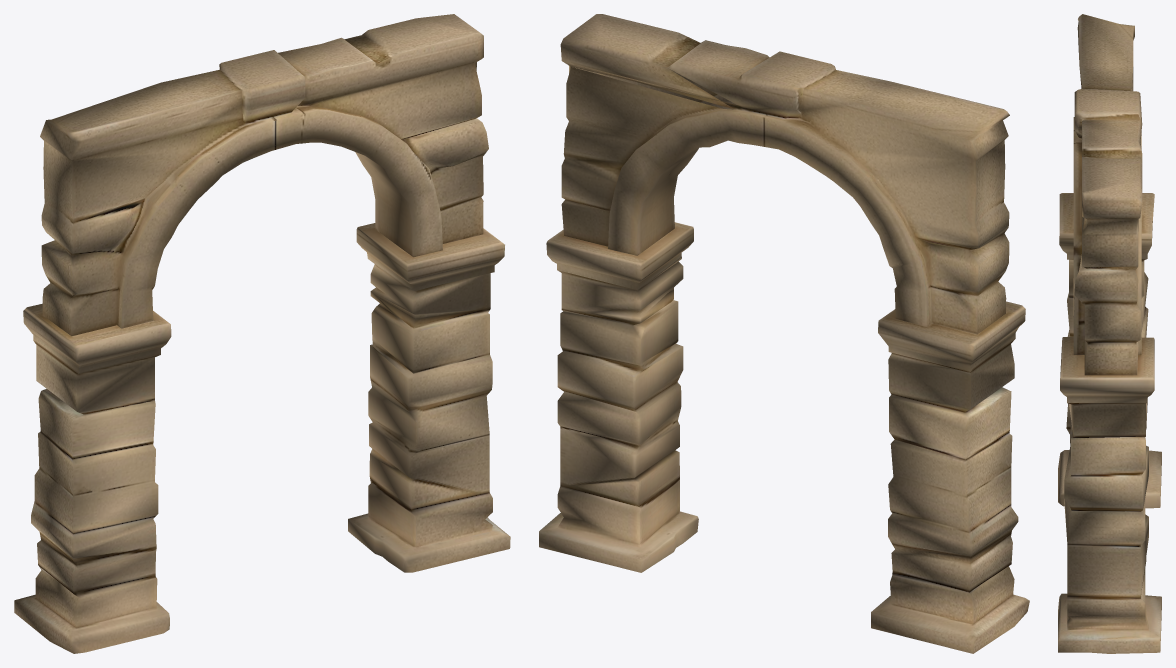
Rendered from aqueduct-arch-DMrJRIRz.glb.
The picture shows the model from 3 angles, left to right: view 1: azimuth 30°, elevation 25°; view 2: azimuth 150°, elevation 25°; view 3: azimuth 270°, elevation 25°; orthographic projection. The views are drawn at different scales.
Parts seen in each view (by area): view 1: tripo_node_8d503a8f-2bf7-4d59-bc5c-eaeefa0f63e1; view 2: tripo_node_8d503a8f-2bf7-4d59-bc5c-eaeefa0f63e1; view 3: tripo_node_8d503a8f-2bf7-4d59-bc5c-eaeefa0f63e1.
Boxes of the visible parts, box(x1,y1,x2,y2) form: tripo_node_8d503a8f-2bf7-4d59-bc5c-eaeefa0f63e1: box(14, 14, 510, 653); tripo_node_8d503a8f-2bf7-4d59-bc5c-eaeefa0f63e1: box(539, 14, 1029, 653); tripo_node_8d503a8f-2bf7-4d59-bc5c-eaeefa0f63e1: box(1058, 14, 1161, 653).
Size of the model in its own units: 0.9048 by 0.9995 by 0.2065.
Materials: 1 (1 with a texture image).
